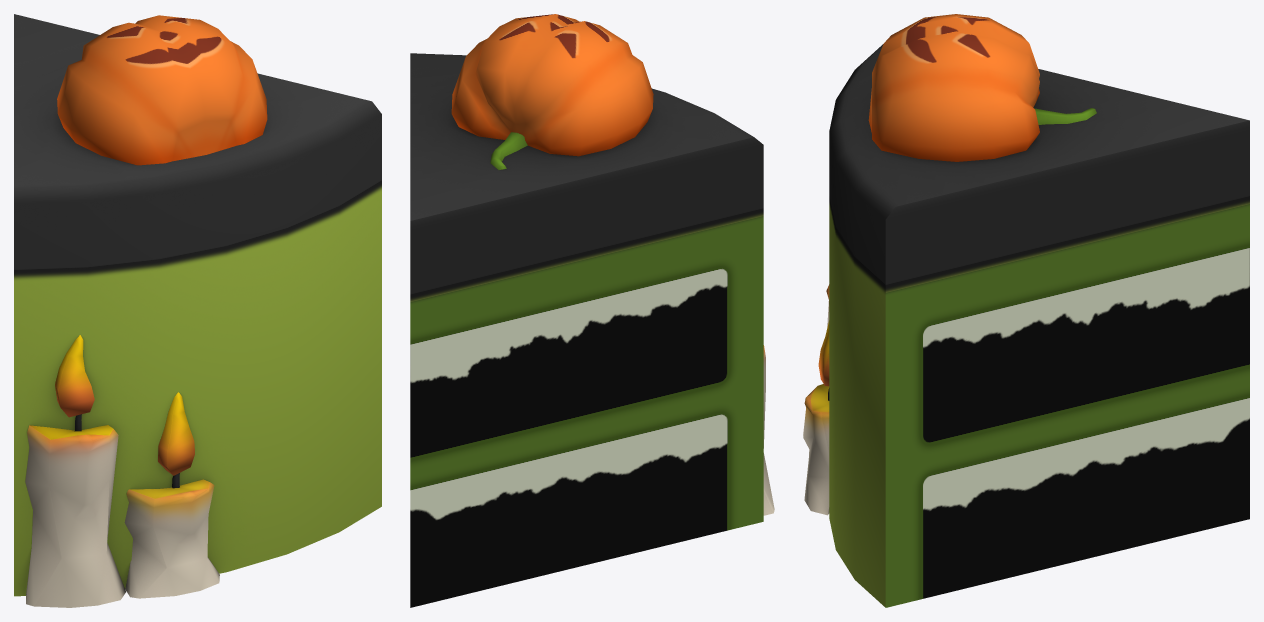
The model's file is cake_69.FBX.
3 views of the same model, side by side, from view 1: azimuth 30°, elevation 25°; view 2: azimuth 150°, elevation 25°; view 3: azimuth 270°, elevation 25° (orthographic). The views are drawn at different scales.
Parts seen in each view (by area): view 1: cake_69; view 2: cake_69; view 3: cake_69.
Boxes of the visible parts, <box> form: cake_69: <box>14,14,381,607</box>; cake_69: <box>410,14,774,607</box>; cake_69: <box>803,14,1249,607</box>.
Size of the model in its own units: 5.09 by 6.6 by 5.41.
